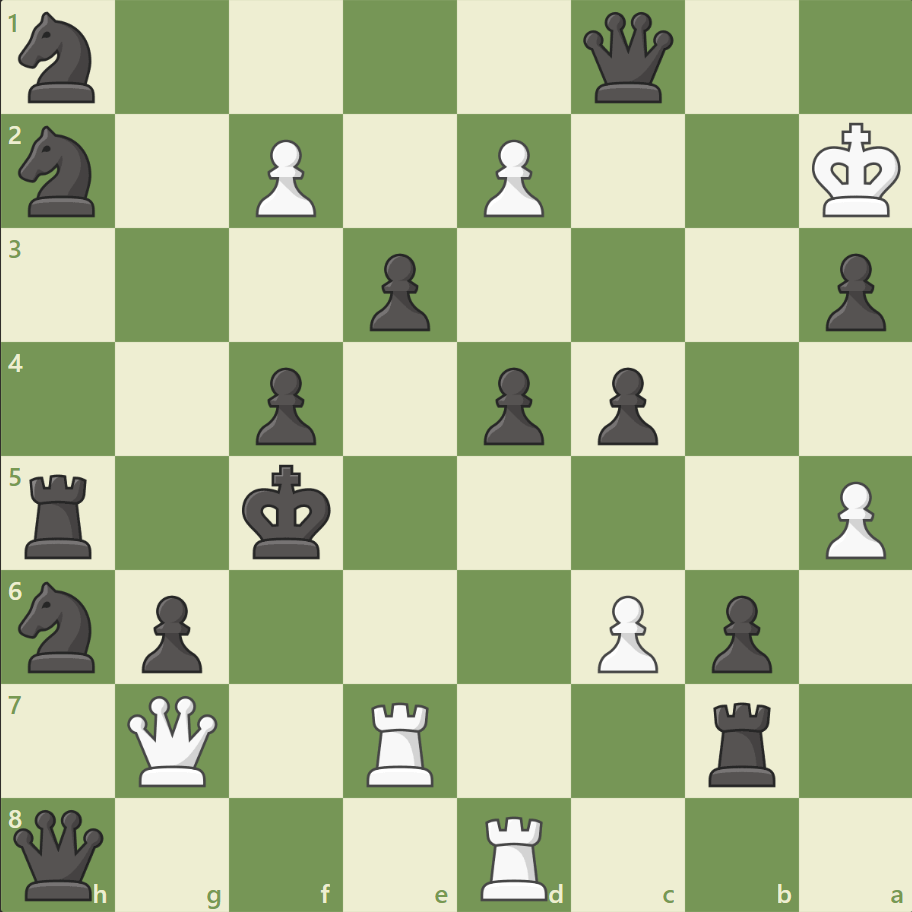K: (806, 117, 906, 225)
P: (474, 132, 549, 223), (247, 132, 322, 223), (588, 586, 662, 677), (815, 473, 889, 564)
Q: (124, 690, 223, 789)
R: (473, 806, 556, 904), (360, 693, 442, 790)
k: (238, 458, 338, 566)
n: (11, 7, 108, 110), (11, 575, 108, 677), (11, 121, 108, 223)
p: (701, 586, 776, 677), (133, 586, 208, 677), (474, 359, 549, 450), (247, 359, 322, 450), (588, 359, 662, 450), (815, 246, 889, 337), (361, 246, 435, 337)
q: (10, 804, 109, 903), (578, 9, 677, 108)
r: (700, 693, 783, 790), (19, 466, 102, 563)
